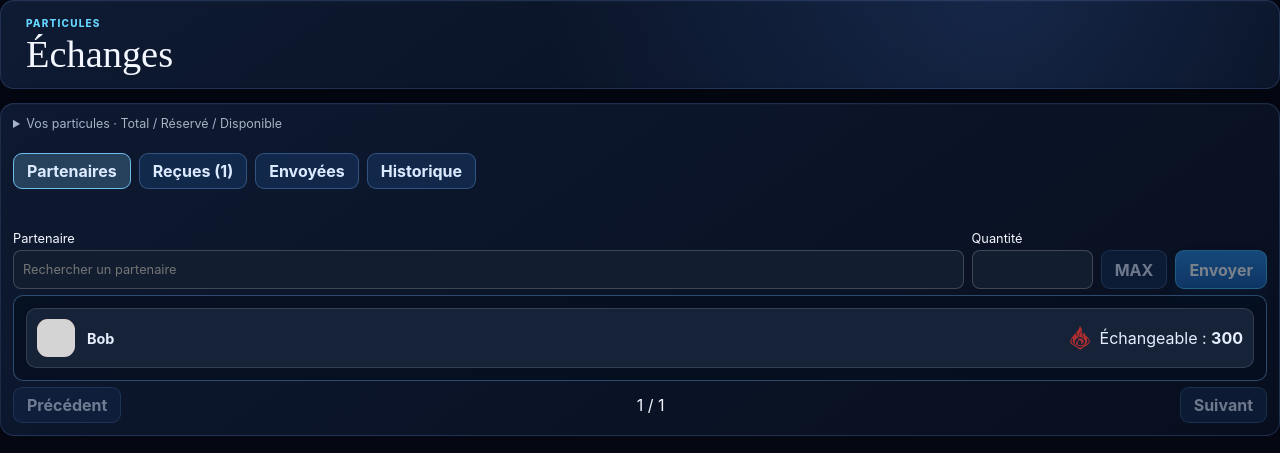
Particle trades UI › confirms acceptance before secondary refresh, preserves success on refresh failure and never offers replay
Step 1. Click the button "Reçues (1)" → {"x": 193, "y": 171}, box [139,153,247,189]
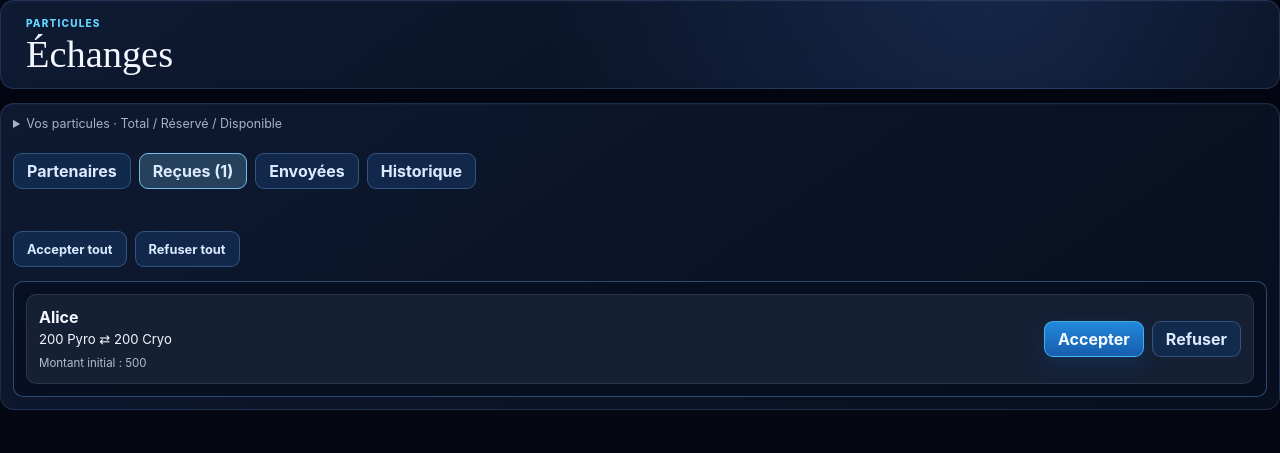
Step 2. Click the button "Accepter" → {"x": 1094, "y": 339}, box [1044,321,1144,357]
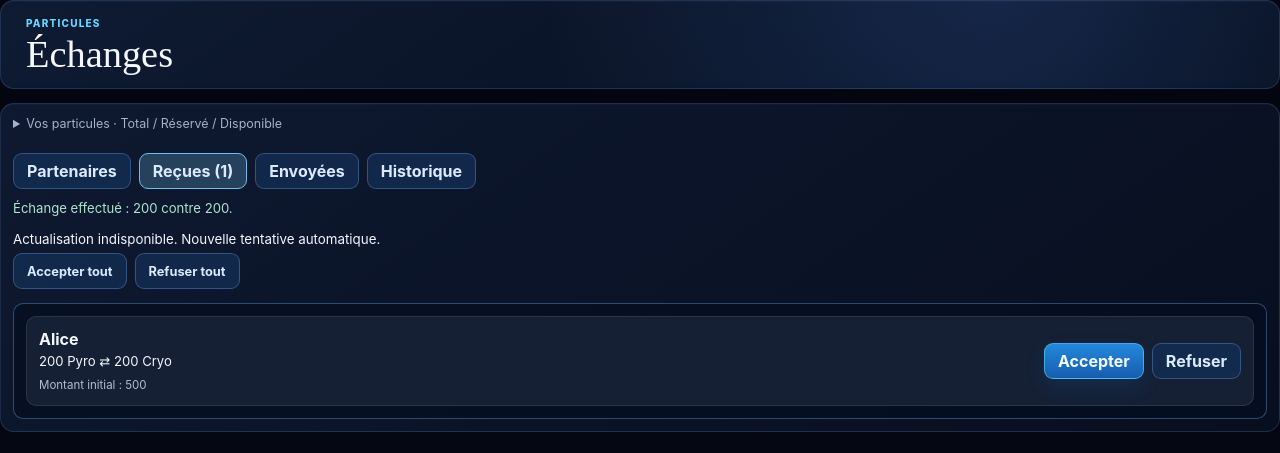
expect the text "Échange effectué" is shown: met, box [13,200,233,216]
expect the text "Actualisation indisponible" is shown: met, box [13,231,380,247]
